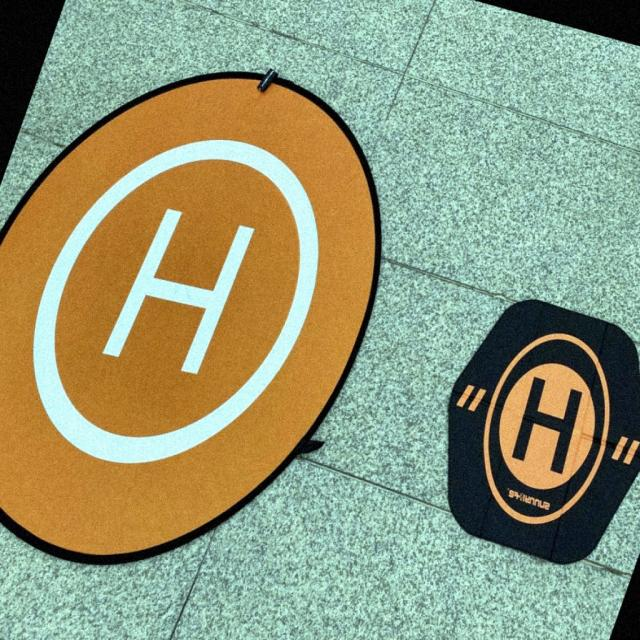helipad: (25, 132, 324, 471), (479, 330, 612, 528)
